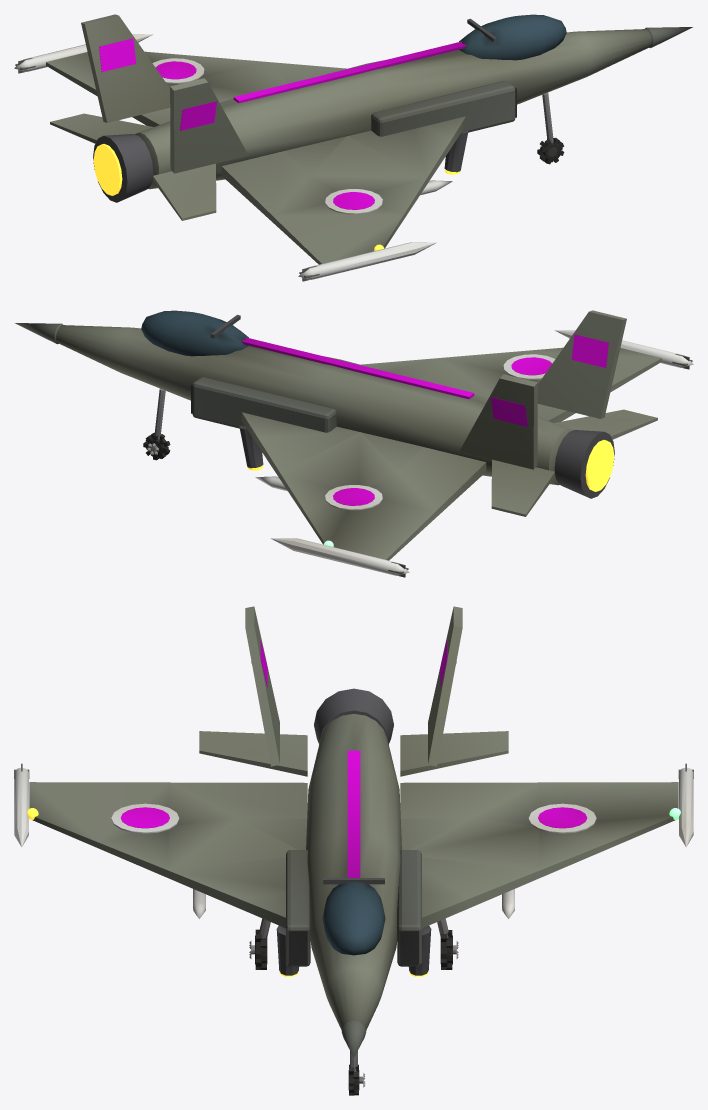
The model's file is fighter.glb.
3 views of the same model, one above another, from view 1: azimuth 30°, elevation 25°; view 2: azimuth 150°, elevation 25°; view 3: azimuth 270°, elevation 25° (orthographic). The views are drawn at different scales.
Parts seen in each view (by area): view 1: Body, LandingGearN; view 2: Body, LandingGearN; view 3: Body.
Part boxes in pixels (<box>): Body: <box>14,14,692,281</box>; LandingGearN: <box>537,92,564,164</box>; Body: <box>15,310,693,577</box>; LandingGearN: <box>143,388,170,460</box>; Body: <box>14,606,693,1057</box>.
Bounding box in the file's own units: 5.13 × 1.77 × 4.4.
1 material, 1 textured.
